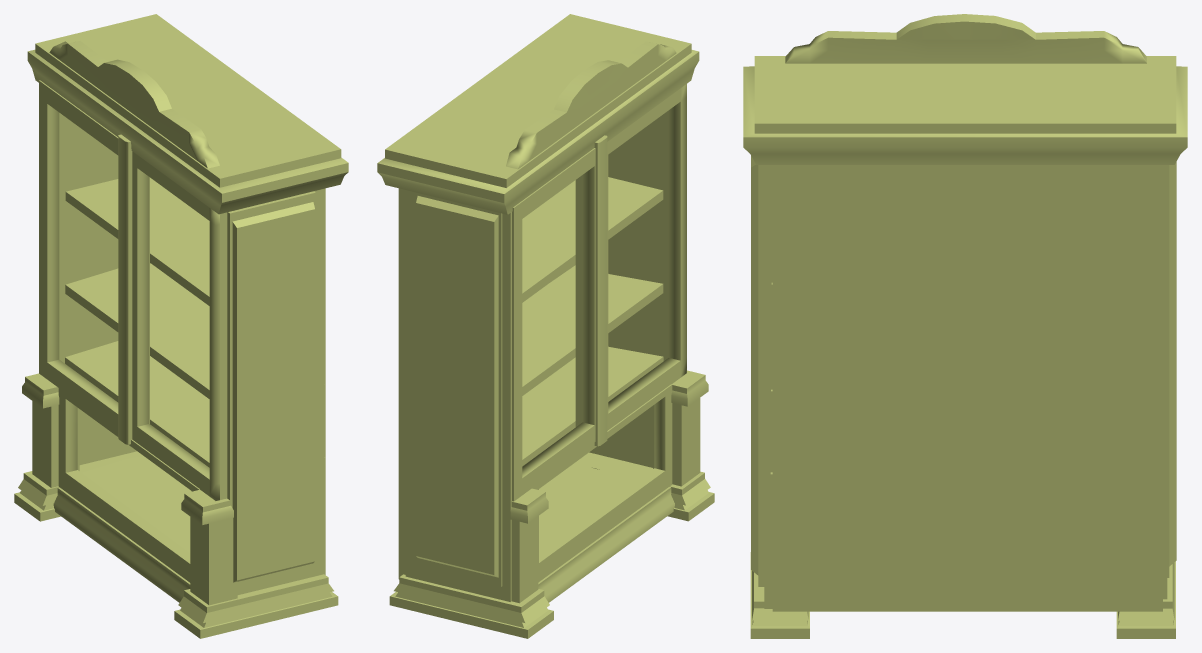
The model's file is Cupboard_01_Lod0.fbx.
The picture shows the model from 3 angles, left to right: view 1: azimuth 30°, elevation 25°; view 2: azimuth 150°, elevation 25°; view 3: azimuth 270°, elevation 25°; orthographic projection. The views are drawn at different scales.
Parts seen in each view (by area): view 1: Cupboard_01_Lod0; view 2: Cupboard_01_Lod0; view 3: Cupboard_01_Lod0.
Boxes of the visible parts, left/top/right/bottom form: Cupboard_01_Lod0: left=14, top=14, right=348, bottom=638; Cupboard_01_Lod0: left=377, top=14, right=714, bottom=638; Cupboard_01_Lod0: left=743, top=14, right=1187, bottom=638.
Bounding box in the file's own units: 70.25 × 227 × 163.
